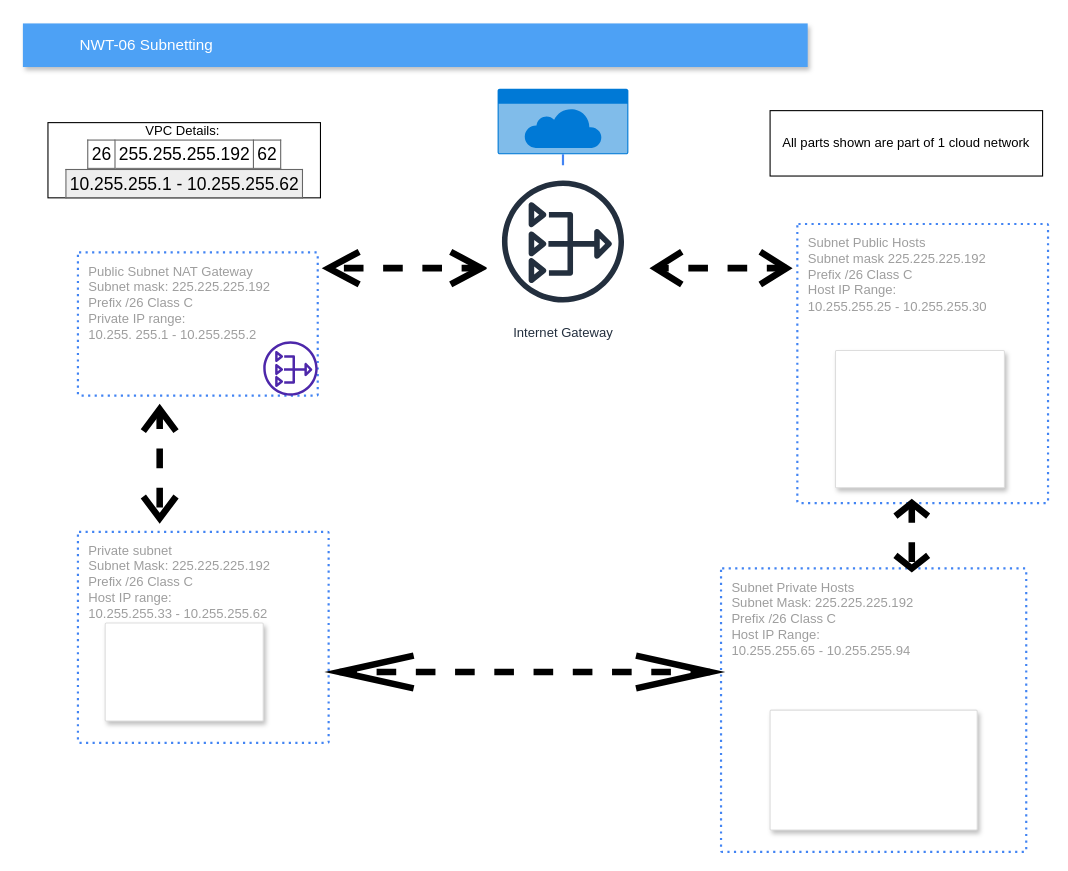
Some shapes in this 1068 by 871 pixel diagram are drawn without their labels. The shapes that lost their labels are listed below. From the top down, each one's centre as x and y in pixels, then its label:
the point at 562,121: CLoud
the point at 920,420: 5 Hosts
the point at 185,673: 30 hosts
the point at 874,771: 15 hosts
